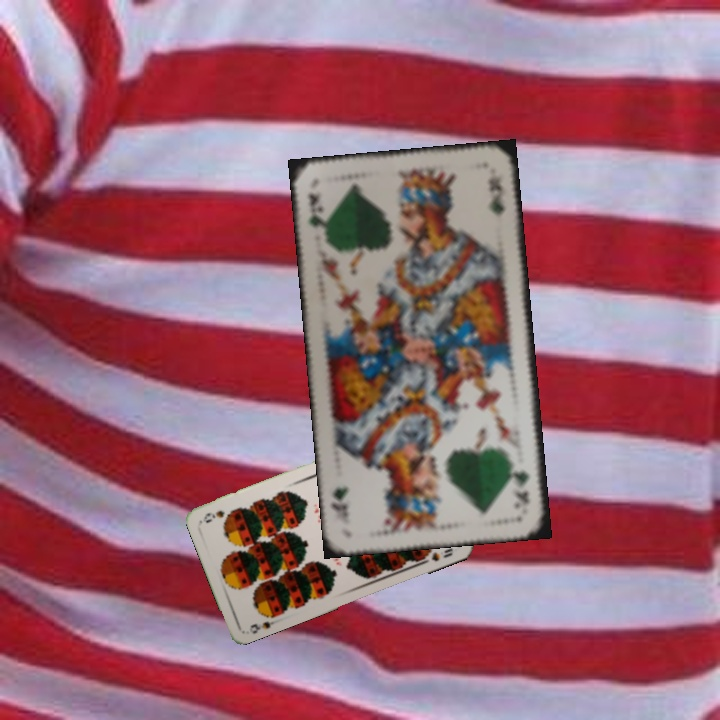GK: (303, 189, 329, 241), (510, 465, 532, 507)
S9: (246, 608, 283, 636)
